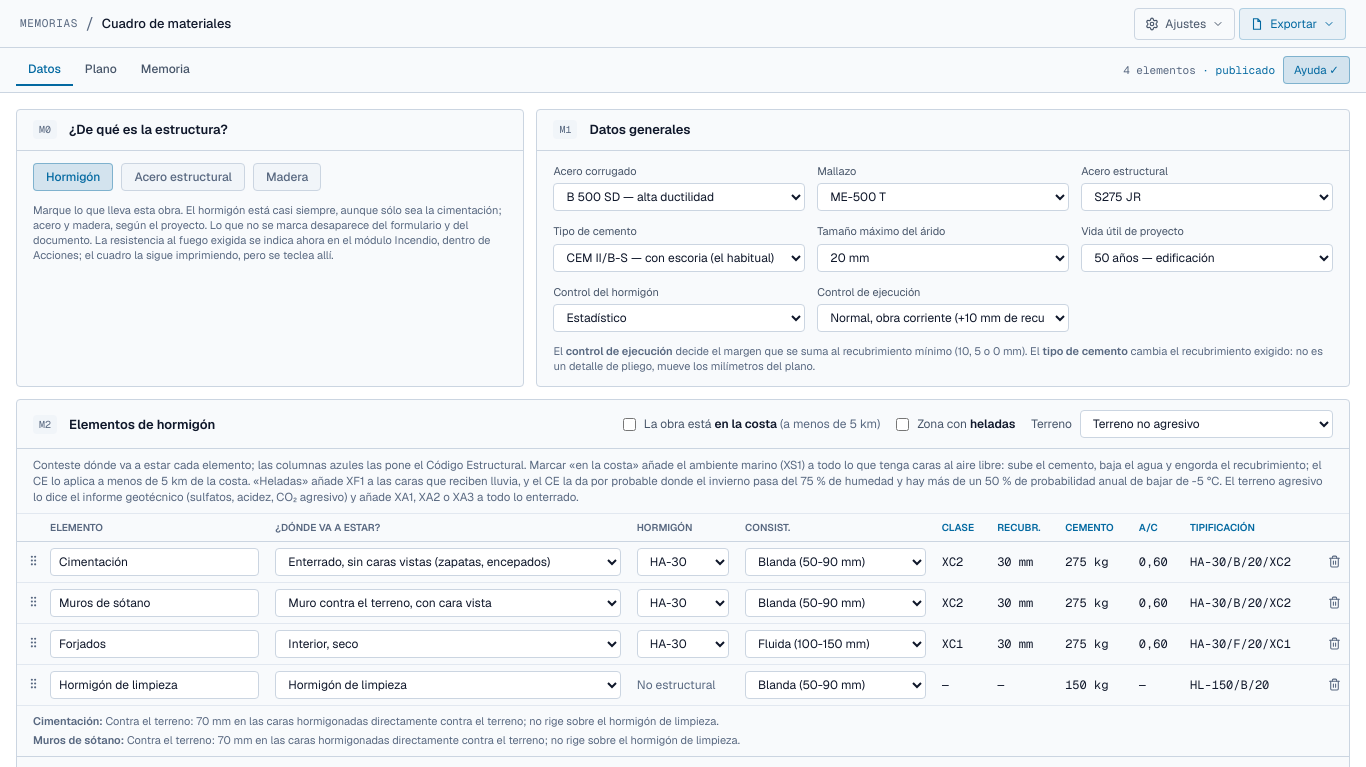
heladas y terreno agresivo › un terreno XA2 deja el recubrimiento en guion y bloquea exportar
Select "Terreno moderadamente agresivo (XA2)" in the dropdown named "Agresividad del terreno" at (1206, 424), box [1080,410,1333,438]
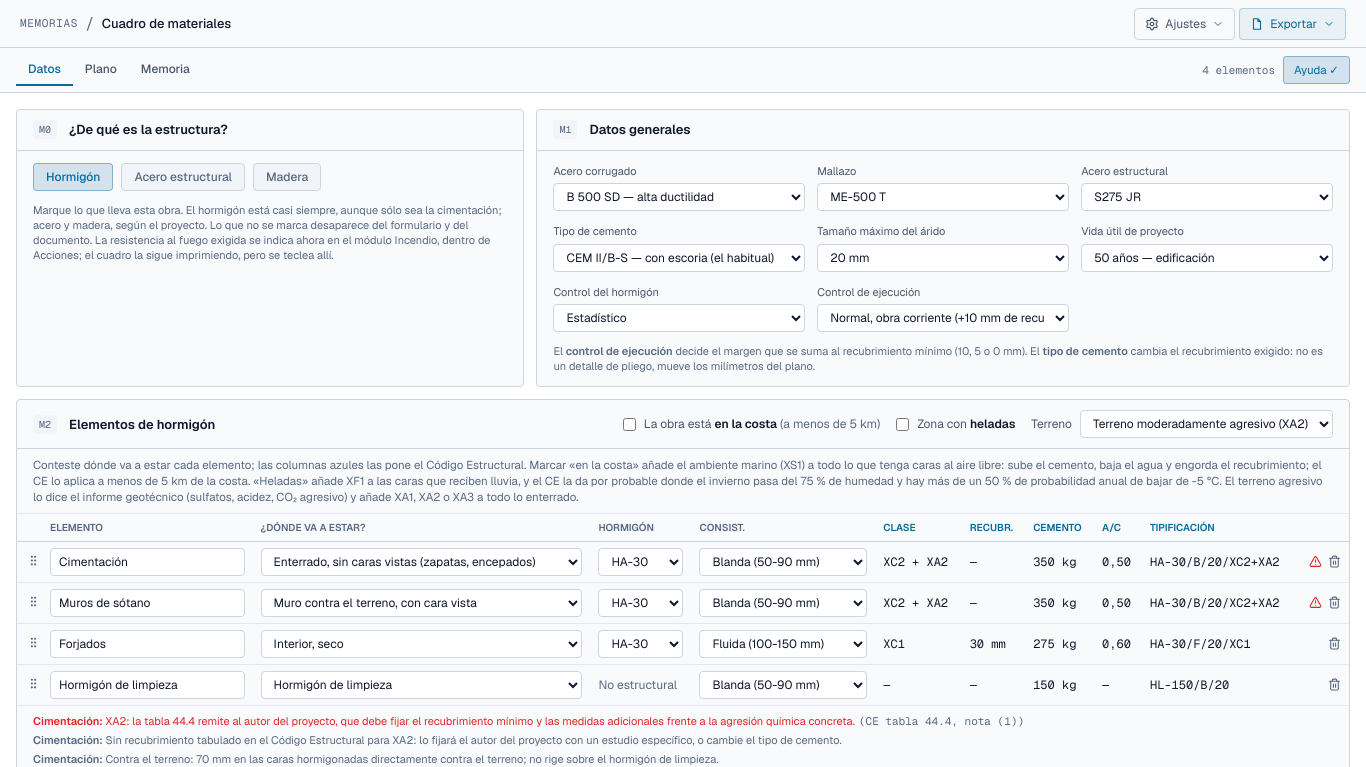
Result: the 1st text "XC2 + XA2" is shown at [875,541,962,582]
Click the button "Exportar" at (1293, 24), box [1239,8,1346,40]
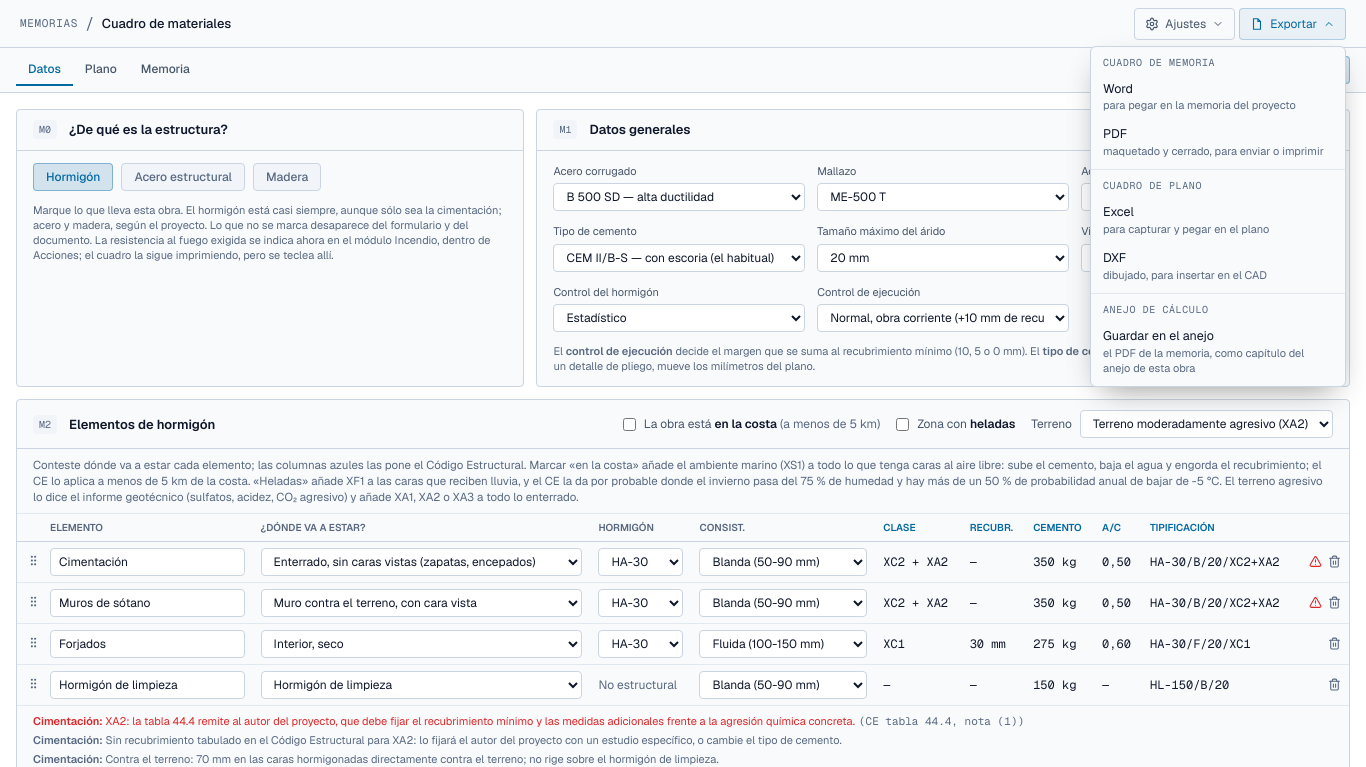
Click the menu item "Word para pegar en la memoria del proyecto" at (1218, 96), box [1091,74,1345,119]
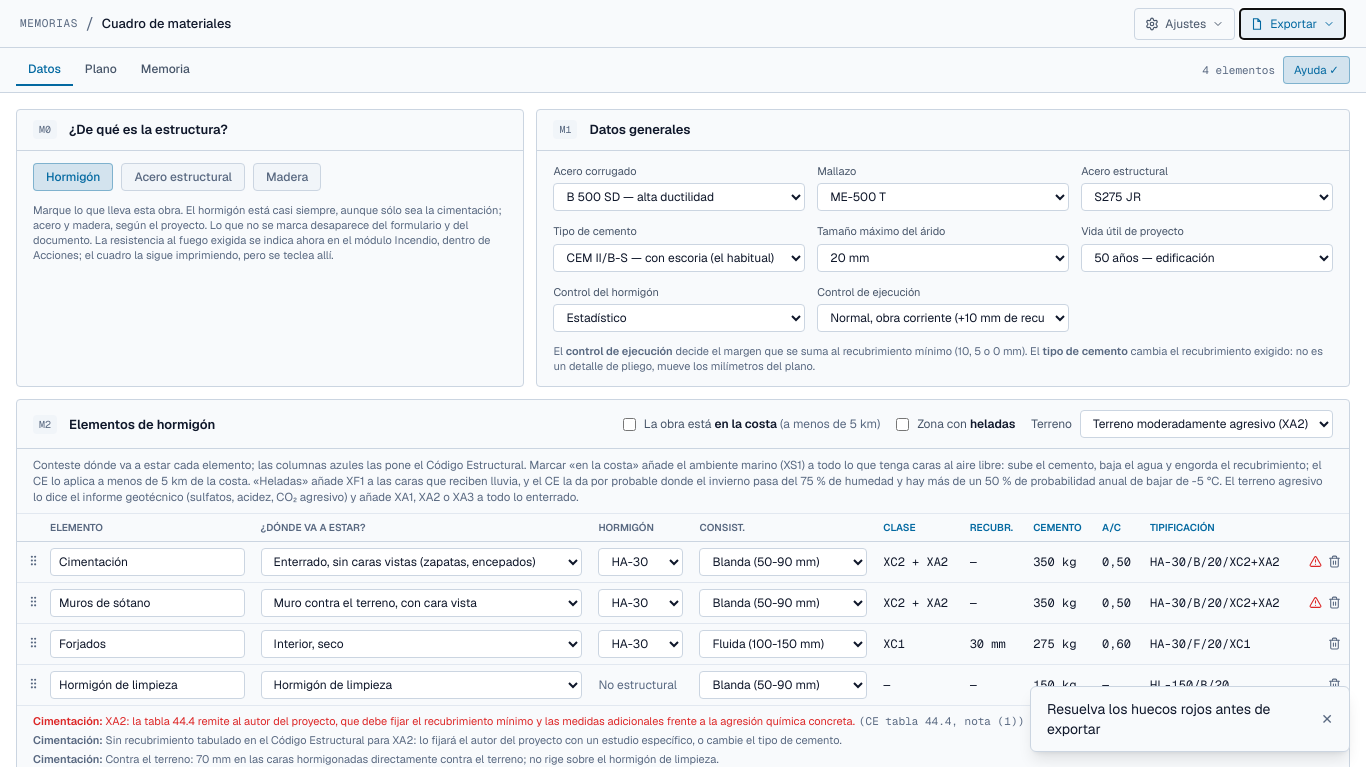
Result: the text "Resuelva los huecos rojos antes de exportar" is shown at [1047,699,1309,739]
